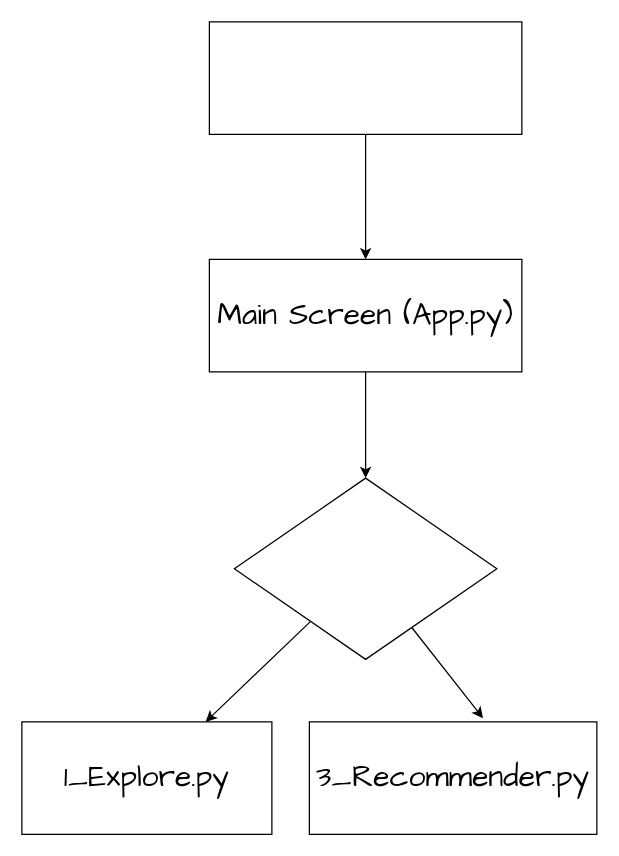
The diagram is 619 pixels wide and 856 high, and some of its shapes have lost their labels. The centre of each missing label's shape, as x and y in pixels:
"NeuroNexus" goes at pixel 365 77.
"Pages" goes at pixel 365 568.
